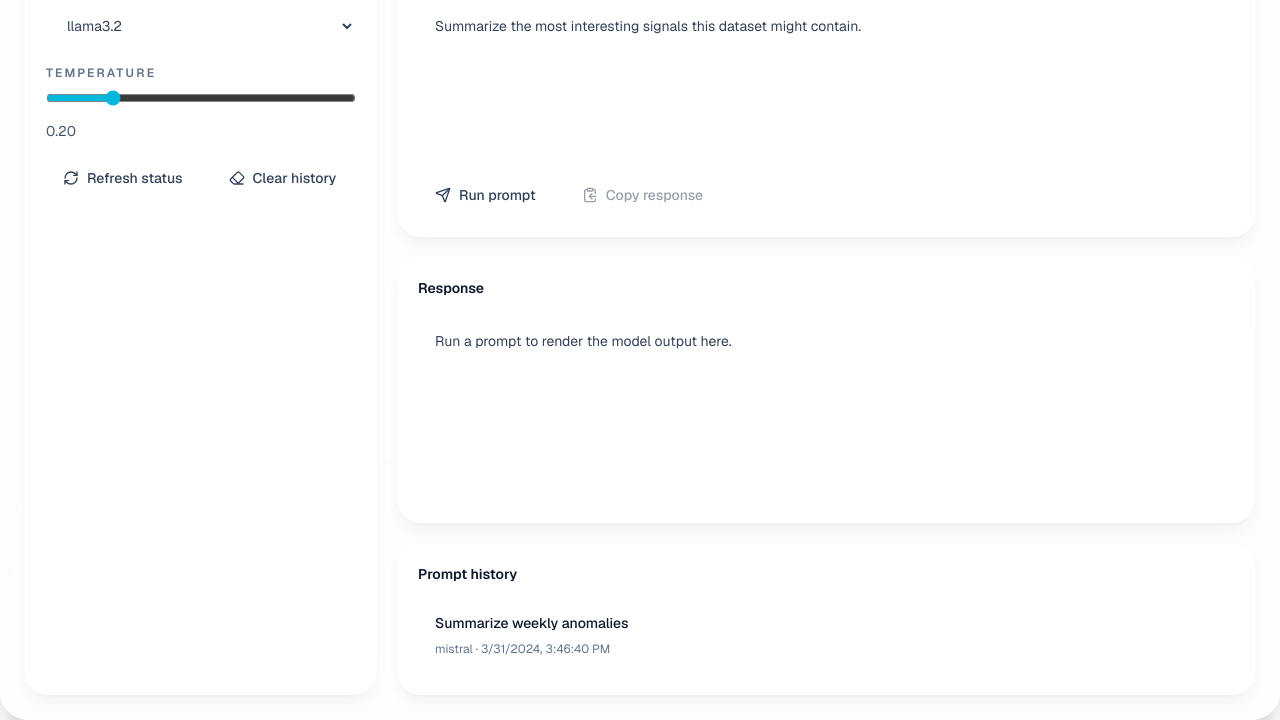
AiPlayground › renders stored history entries and reloads a saved prompt when selected
(page scrolled)
Check: the text "Summarize weekly anomalies" is shown, box [435,614,628,632]
Check: the text "Run a prompt to render the model output here." is shown, box [418,310,1234,502]
Click the button "Summarize weekly anomalies mistral · 3/31/2024, 3:46:40 PM": (532, 623) [418,596,1234,674]
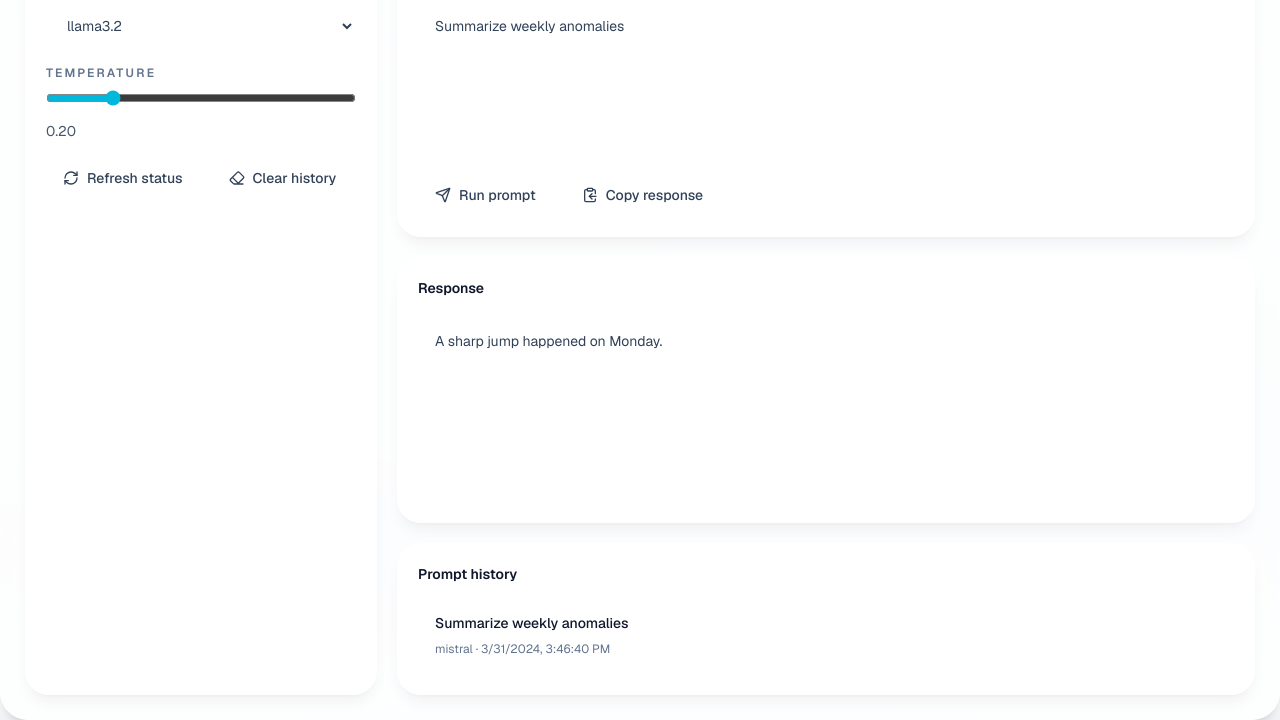
Check: the text box labelled "Prompt" holds "Summarize weekly anomalies", box [418,3,1234,147]
Check: the text "A sharp jump happened on Monday." is shown, box [418,310,1234,502]
